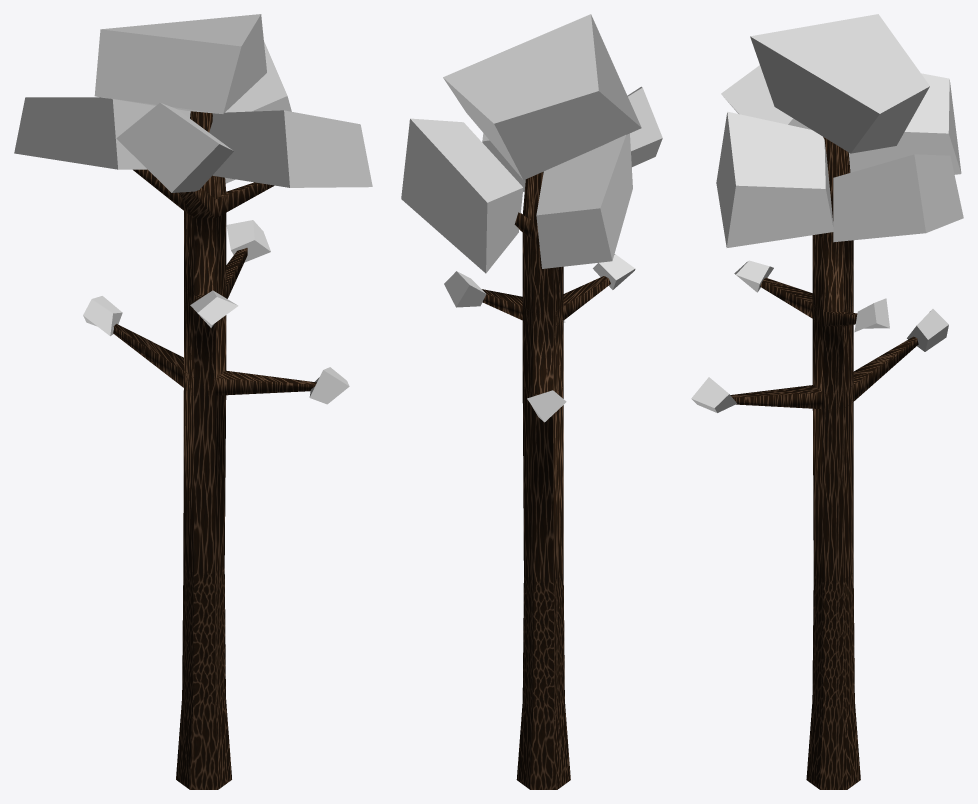
The model's file is tronco_grueso.fbx.
3 views of the same model, side by side, from view 1: azimuth 30°, elevation 25°; view 2: azimuth 150°, elevation 25°; view 3: azimuth 270°, elevation 25° (orthographic). The views are drawn at different scales.
Visible parts, largest first — view 1: Tronco, Cube.008, Cube.005, Cube.006, Cube.007, Cube.004, Cube.002, Cube.001, Cube.003, Cube; view 2: Tronco, Cube.008, Cube.004, Cube.006, Cube.007, Cube.002, Cube.003, Cube.001; view 3: Tronco, Cube.008, Cube.005, Cube.004, Cube.006, Cube.007, Cube.001, Cube, Cube.002, Cube.003.
Boxes of the visible parts, box(x1,y1,x2,y2) form: Tronco: box(113, 111, 316, 789); Cube.008: box(94, 14, 266, 113); Cube.005: box(209, 110, 372, 187); Cube.006: box(14, 97, 190, 169); Cube.007: box(116, 102, 233, 192); Cube.004: box(189, 41, 291, 183); Cube.002: box(226, 220, 270, 262); Cube.001: box(83, 296, 122, 336); Cube.003: box(190, 290, 238, 327); Cube: box(309, 367, 349, 404); Tronco: box(482, 171, 610, 789); Cube.008: box(443, 14, 641, 180); Cube.004: box(401, 118, 523, 273); Cube.006: box(536, 133, 632, 268); Cube.007: box(627, 86, 662, 166); Cube.002: box(444, 271, 486, 307); Cube.003: box(593, 254, 635, 289); Cube.001: box(527, 390, 566, 422); Tronco: box(730, 137, 918, 789); Cube.008: box(750, 14, 929, 153); Cube.005: box(716, 111, 833, 247); Cube.004: box(833, 154, 963, 242); Cube.006: box(849, 73, 961, 174); Cube.007: box(721, 65, 811, 129); Cube.001: box(907, 309, 948, 351); Cube: box(691, 377, 736, 412); Cube.002: box(854, 298, 889, 332); Cube.003: box(734, 260, 773, 292).
Bounding box in the file's own units: 4424 × 13273 × 4427.
